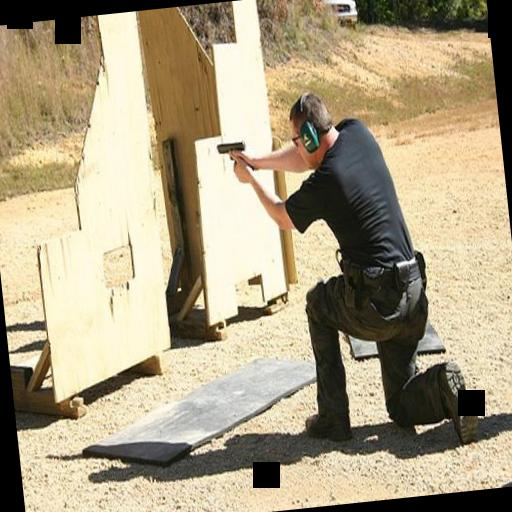Handgun: (212, 138, 246, 168)
